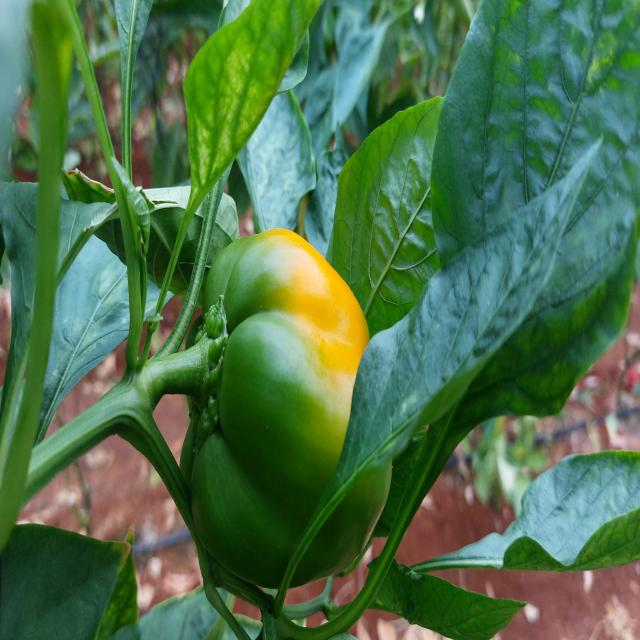GreenishYellow--Can-be-Harvested: (204, 202, 408, 610)
